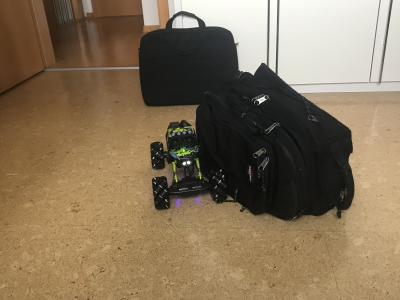remote control car: (147, 118, 228, 211)
